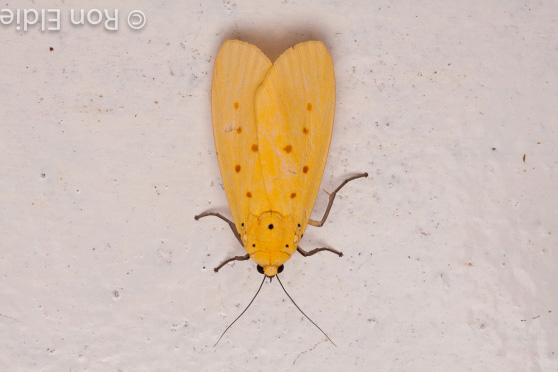Agape chloropyga: (194, 33, 373, 347)
moth: (192, 31, 371, 345)
